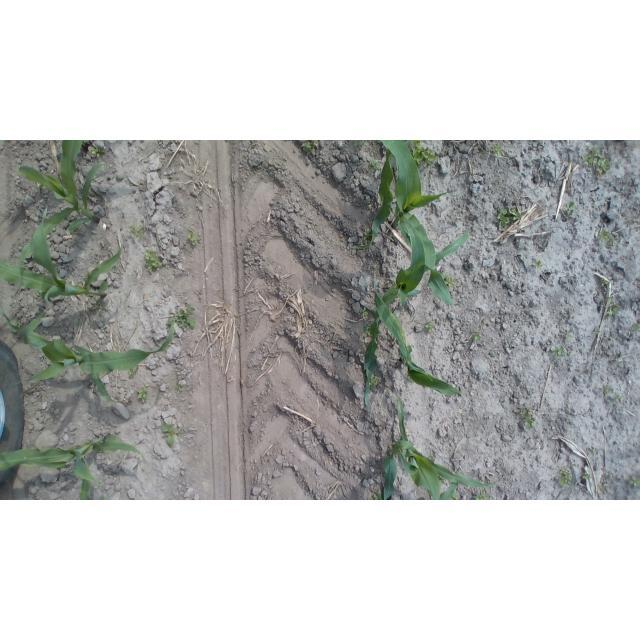Maize: (362, 222, 470, 414), (1, 308, 177, 405), (372, 394, 503, 500), (0, 206, 124, 315), (378, 141, 457, 307), (15, 141, 104, 284), (375, 273, 470, 405), (0, 434, 146, 500), (352, 140, 397, 252)
Weeds: (405, 141, 439, 168), (166, 304, 198, 330), (582, 146, 610, 174), (161, 423, 183, 446), (498, 207, 522, 228), (144, 249, 163, 273), (128, 215, 145, 240), (520, 409, 537, 429), (597, 228, 617, 245), (440, 272, 458, 289), (558, 467, 572, 488), (303, 141, 318, 156), (369, 374, 383, 389), (552, 346, 567, 359), (606, 304, 621, 317), (137, 387, 149, 403), (187, 229, 198, 246), (90, 146, 105, 158), (424, 319, 436, 333), (605, 388, 619, 400), (565, 201, 576, 216), (369, 159, 382, 171), (92, 300, 105, 312), (492, 143, 503, 156), (362, 324, 373, 337), (474, 492, 491, 500), (629, 476, 640, 488), (531, 258, 543, 268), (469, 331, 481, 341), (605, 387, 616, 397), (611, 393, 621, 403), (373, 491, 384, 499), (12, 169, 20, 180), (600, 278, 609, 287), (360, 306, 368, 316), (566, 331, 575, 339), (176, 382, 184, 391), (354, 141, 364, 148), (128, 368, 136, 376), (583, 471, 590, 480), (632, 324, 639, 333), (588, 447, 596, 454), (594, 328, 601, 335), (610, 334, 617, 341), (98, 493, 106, 499), (0, 141, 6, 148)
